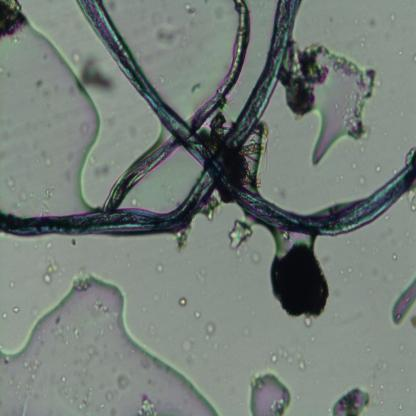Air bubble: (0, 274, 223, 416), (0, 26, 100, 214), (309, 43, 376, 166), (247, 366, 294, 415), (388, 276, 416, 325)
Background material: (271, 230, 333, 326), (282, 43, 327, 122), (240, 121, 272, 197), (78, 50, 115, 96), (0, 0, 35, 42), (330, 386, 370, 415), (266, 344, 309, 370), (226, 215, 255, 251), (42, 256, 62, 287), (157, 27, 184, 46), (22, 358, 43, 382), (201, 193, 219, 220), (77, 387, 95, 412), (136, 393, 157, 414), (71, 273, 92, 293), (174, 229, 193, 251), (41, 186, 55, 211), (2, 174, 20, 193), (116, 372, 130, 393), (202, 318, 218, 336), (247, 249, 263, 265), (183, 3, 199, 19), (95, 164, 112, 179), (406, 184, 416, 209), (181, 336, 193, 354), (177, 294, 188, 312), (156, 262, 166, 276), (190, 82, 201, 94), (303, 314, 313, 327), (45, 240, 53, 254), (374, 163, 382, 175), (194, 308, 201, 320), (8, 278, 15, 290), (390, 12, 396, 23), (391, 251, 397, 261), (12, 306, 18, 315), (2, 311, 8, 320)
Cotton: (75, 0, 416, 241), (0, 0, 304, 237), (105, 1, 249, 213)
